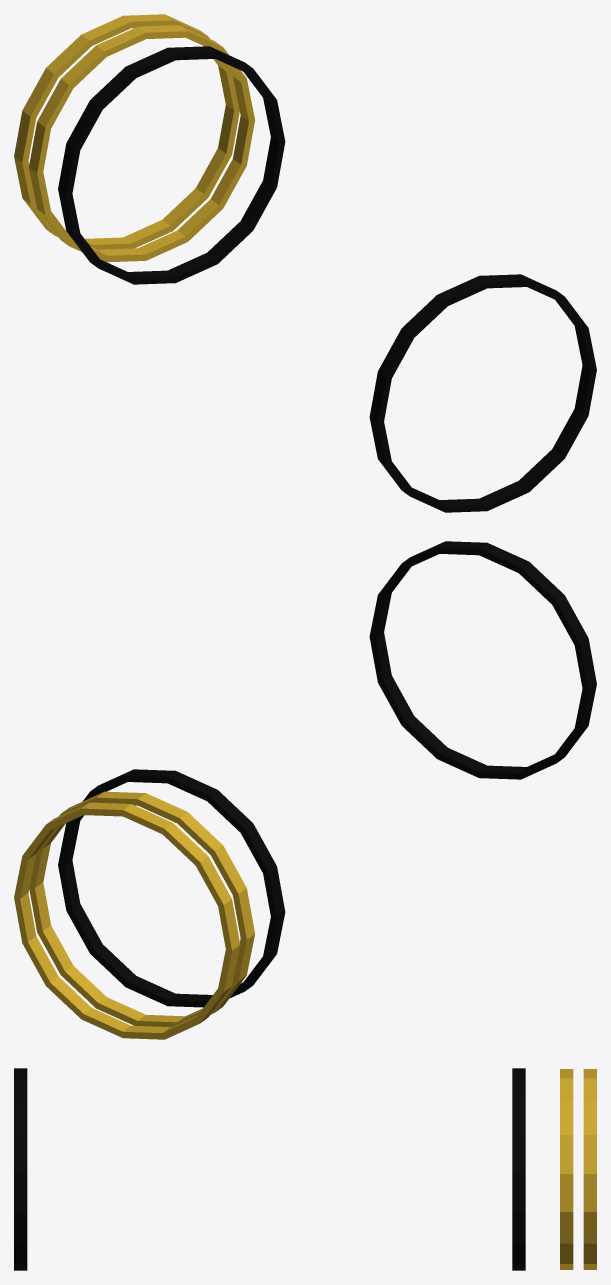
File: BombMedium__Body.obj
3 views of the same model, one above another, from view 1: azimuth 30°, elevation 25°; view 2: azimuth 150°, elevation 25°; view 3: azimuth 270°, elevation 25° (orthographic). The views are drawn at different scales.
Parts seen in each view (by area): view 1: Identification_band.003, Identification_band.002, Identification_band.001, Identification_band; view 2: Identification_band.002, Identification_band, Identification_band.003, Identification_band.001; view 3: Identification_band.002, Identification_band.003, Identification_band, Identification_band.001.
Boxes of the visible parts, box(x1,y1,x2,y2) form: Identification_band.003: box(58, 46, 285, 284); Identification_band.002: box(369, 274, 596, 512); Identification_band.001: box(29, 25, 254, 262); Identification_band: box(14, 14, 239, 249); Identification_band.002: box(369, 541, 596, 779); Identification_band: box(14, 802, 240, 1039); Identification_band.003: box(58, 769, 285, 1007); Identification_band.001: box(29, 791, 254, 1026); Identification_band.002: box(14, 1068, 27, 1270); Identification_band.003: box(512, 1068, 525, 1270); Identification_band: box(583, 1069, 596, 1269); Identification_band.001: box(560, 1069, 573, 1269).
Size of the model in its own units: 0.4263 by 0.4263 by 1.23.
